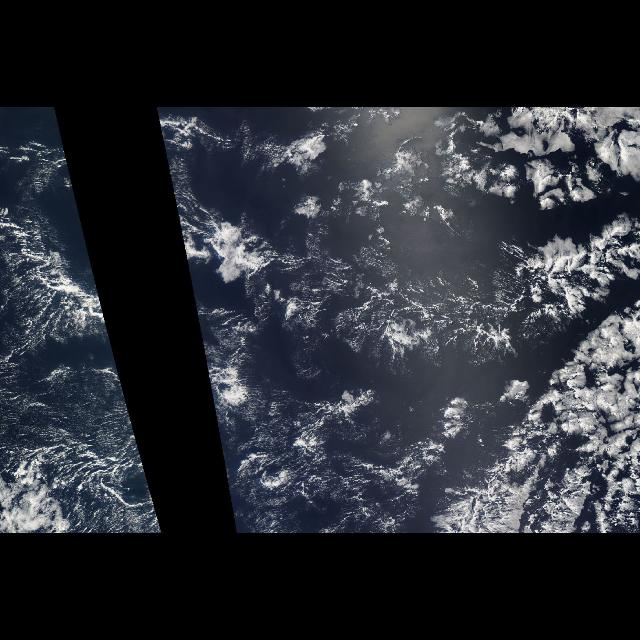Fish: (258, 219, 640, 349)
Sugar: (2, 224, 142, 492)
